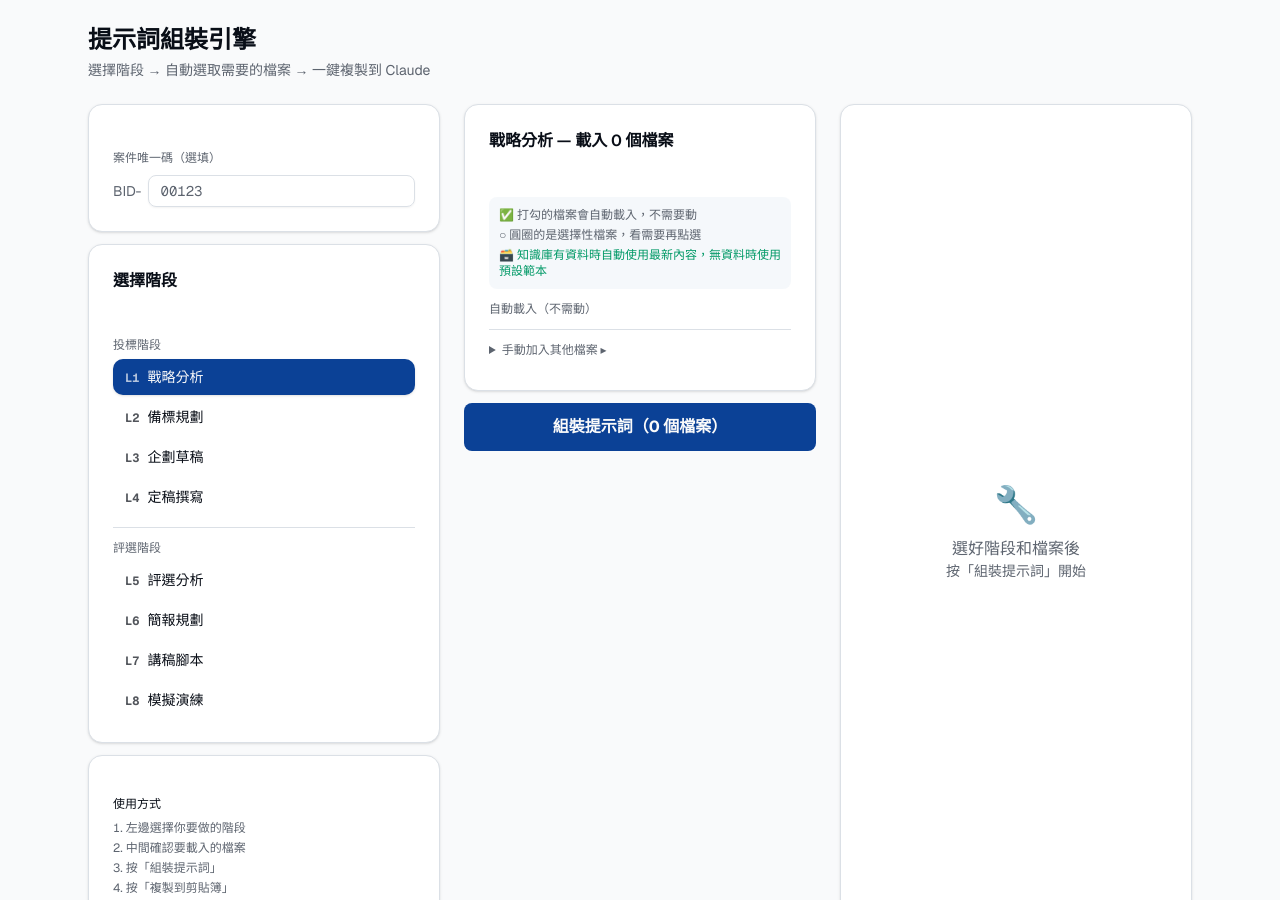
Test: AssemblyPage — GAP-2：複製並前往品質檢查 › 組裝後顯示「複製並前往品質檢查」按鈕
The width and height of the screenshot is (1280, 900).
Click the button "組裝提示詞（0 個檔案）" at [640, 427], box left=464, top=403, right=816, bottom=451
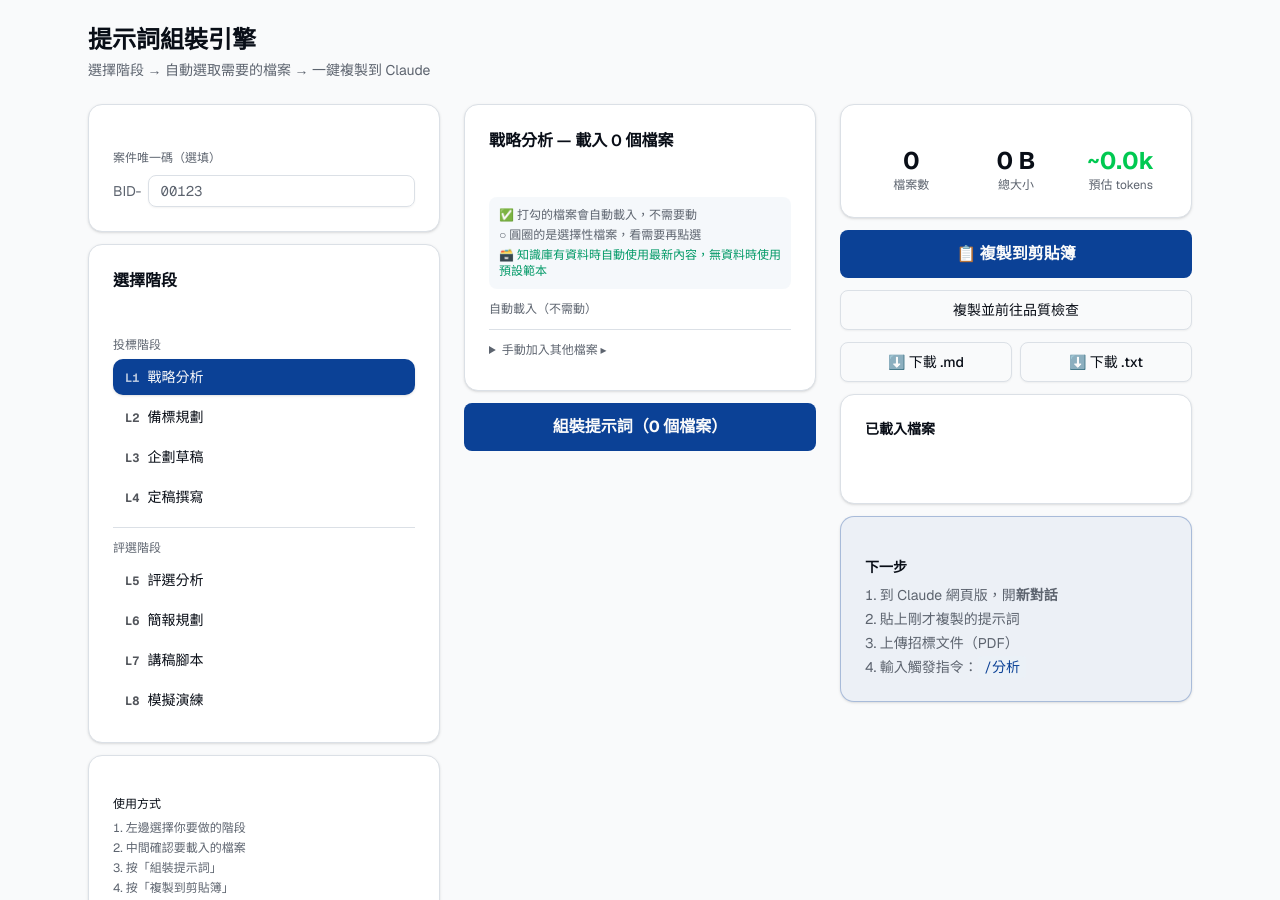
Check: the button "複製並前往品質檢查" is shown, box left=840, top=290, right=1192, bottom=330
